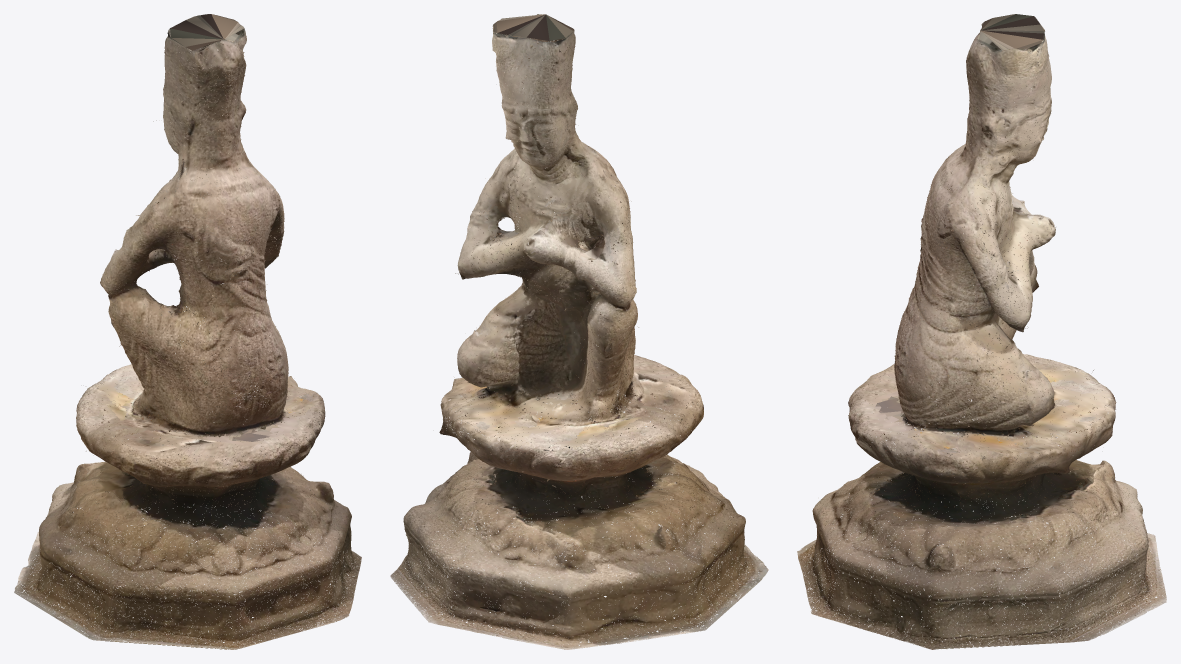
File: bosal.glb
3 views of the same model, side by side, from view 1: azimuth 30°, elevation 25°; view 2: azimuth 150°, elevation 25°; view 3: azimuth 270°, elevation 25° (orthographic). The views are drawn at different scales.
Visible parts, largest first — view 1: Stereo textured mesh_Material0_0.009, Stereo textured mesh_Material0_0.001, Stereo textured mesh_Material0_0.006, Stereo textured mesh_Material0_0.004, Stereo textured mesh_Material0_0.005, Stereo textured mesh_Material0_0.002, Stereo textured mesh_Material0_0.007, Stereo textured mesh_Material0_0.010, Stereo textured mesh_Material0_0.003, Stereo textured mesh, Stereo textured mesh_Material0_0.011, Stereo textured mesh_Material0_0.012 (+2 smaller); view 2: Stereo textured mesh_Material0_0.008, Stereo textured mesh_Material0_0.002, Stereo textured mesh_Material0_0.001, Stereo textured mesh_Material0_0.003, Stereo textured mesh_Material0_0.010, Stereo textured mesh, Stereo textured mesh_Material0_0.007, Stereo textured mesh_Material0_0.004, Stereo textured mesh_Material0_0.005, Stereo textured mesh_Material0_0.011, Stereo textured mesh_Material0_0.012, Stereo textured mesh_Material0_0.009 (+2 smaller); view 3: Stereo textured mesh_Material0_0.003, Stereo textured mesh_Material0_0.008, Stereo textured mesh_Material0_0.009, Stereo textured mesh_Material0_0.005, Stereo textured mesh, Stereo textured mesh_Material0_0.007, Stereo textured mesh_Material0_0.002, Stereo textured mesh_Material0_0.004, Stereo textured mesh_Material0_0.010, Stereo textured mesh_Material0_0.001, Stereo textured mesh_Material0_0.011, Stereo textured mesh_Material0_0.006 (+2 smaller).
Boxes of the visible parts, bbox=[...] form: Stereo textured mesh_Material0_0.009: bbox=[18, 31, 361, 646]; Stereo textured mesh_Material0_0.001: bbox=[14, 31, 351, 649]; Stereo textured mesh_Material0_0.006: bbox=[15, 28, 350, 645]; Stereo textured mesh_Material0_0.004: bbox=[18, 55, 351, 639]; Stereo textured mesh_Material0_0.005: bbox=[17, 38, 360, 649]; Stereo textured mesh_Material0_0.002: bbox=[20, 40, 343, 639]; Stereo textured mesh_Material0_0.007: bbox=[19, 40, 356, 648]; Stereo textured mesh_Material0_0.010: bbox=[18, 16, 352, 649]; Stereo textured mesh_Material0_0.003: bbox=[24, 20, 351, 632]; Stereo textured mesh: bbox=[24, 35, 315, 632]; Stereo textured mesh_Material0_0.011: bbox=[18, 15, 361, 648]; Stereo textured mesh_Material0_0.012: bbox=[14, 14, 360, 649]; Stereo textured mesh_Material0_0.008: bbox=[392, 45, 764, 649]; Stereo textured mesh_Material0_0.002: bbox=[403, 34, 759, 638]; Stereo textured mesh_Material0_0.001: bbox=[401, 25, 762, 633]; Stereo textured mesh_Material0_0.003: bbox=[401, 15, 751, 644]; Stereo textured mesh_Material0_0.010: bbox=[390, 14, 762, 647]; Stereo textured mesh: bbox=[406, 32, 752, 633]; Stereo textured mesh_Material0_0.007: bbox=[401, 19, 766, 649]; Stereo textured mesh_Material0_0.004: bbox=[397, 39, 760, 638]; Stereo textured mesh_Material0_0.005: bbox=[393, 27, 765, 640]; Stereo textured mesh_Material0_0.011: bbox=[392, 29, 768, 648]; Stereo textured mesh_Material0_0.012: bbox=[390, 14, 768, 649]; Stereo textured mesh_Material0_0.009: bbox=[405, 36, 767, 649]; Stereo textured mesh_Material0_0.003: bbox=[813, 14, 1147, 642]; Stereo textured mesh_Material0_0.008: bbox=[813, 40, 1164, 644]; Stereo textured mesh_Material0_0.009: bbox=[806, 30, 1165, 647]; Stereo textured mesh_Material0_0.005: bbox=[797, 18, 1156, 649]; Stereo textured mesh: bbox=[820, 30, 1160, 639]; Stereo textured mesh_Material0_0.007: bbox=[798, 22, 1158, 648]; Stereo textured mesh_Material0_0.002: bbox=[824, 23, 1143, 628]; Stereo textured mesh_Material0_0.004: bbox=[812, 62, 1150, 636]; Stereo textured mesh_Material0_0.010: bbox=[799, 24, 1166, 646]; Stereo textured mesh_Material0_0.001: bbox=[803, 40, 1148, 632]; Stereo textured mesh_Material0_0.011: bbox=[799, 21, 1166, 649]; Stereo textured mesh_Material0_0.006: bbox=[808, 36, 1166, 648].
Bounding box in the file's own units: 1.5 × 2.57 × 1.53.
Materials: 1 (1 with a texture image).
